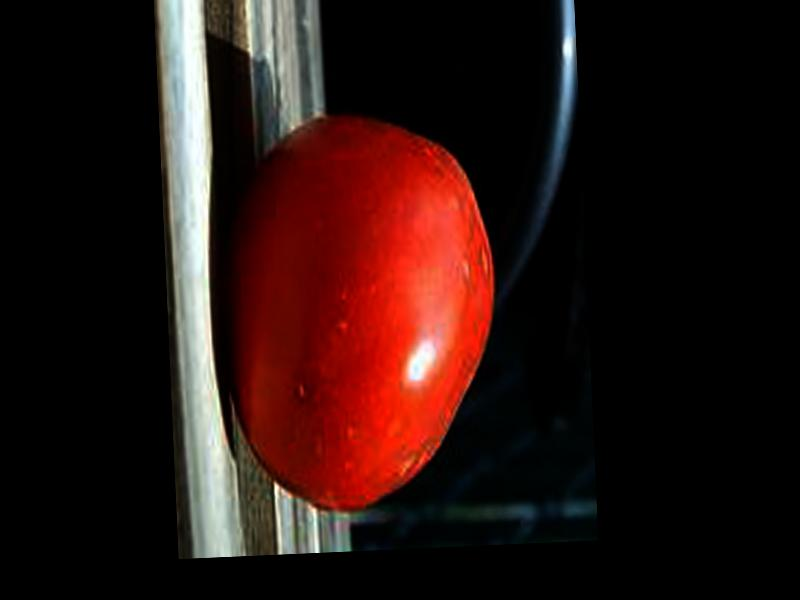Tomato: (218, 110, 505, 517)
